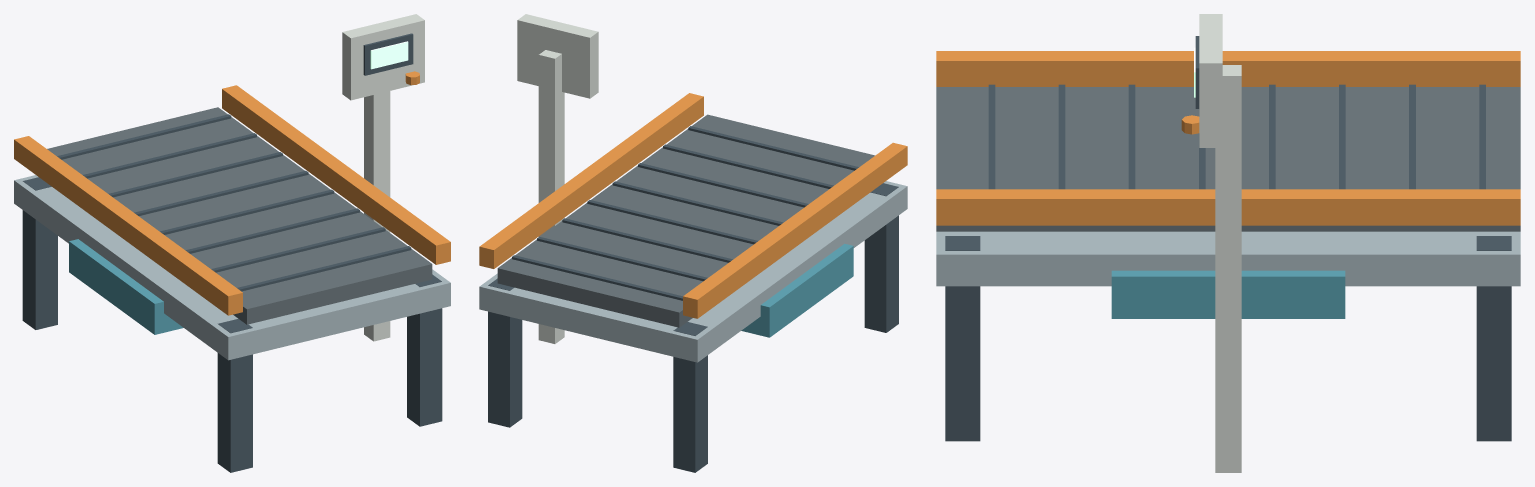
File: weighing-conveyor.glb
3 renders of one model, left to right at view 1: azimuth 30°, elevation 25°; view 2: azimuth 150°, elevation 25°; view 3: azimuth 270°, elevation 25°, orthographic. The views are drawn at different scales.
Visible parts, largest first — view 1: rubber, dark, orange, steel, cream, blue, light; view 2: rubber, dark, orange, steel, cream, blue; view 3: rubber, orange, steel, dark, cream, blue.
Boxes of the visible parts, box(x1,y1,x2,y2) form: rubber: box(47, 107, 432, 324); dark: box(22, 33, 442, 472); orange: box(14, 71, 450, 315); steel: box(14, 175, 450, 360); cream: box(342, 14, 424, 341); blue: box(69, 239, 183, 334); light: box(370, 41, 408, 69); rubber: box(497, 114, 874, 327); dark: box(488, 126, 898, 472); orange: box(479, 93, 907, 318); steel: box(479, 181, 907, 362); cream: box(517, 14, 598, 343); blue: box(741, 243, 853, 337); rubber: box(936, 87, 1520, 231); orange: box(936, 51, 1520, 225); steel: box(936, 231, 1520, 286); dark: box(945, 36, 1511, 441); cream: box(1199, 14, 1241, 472); blue: box(1111, 270, 1345, 318).
Bounding box in the file's own units: 1.63 × 1.62 × 2.
